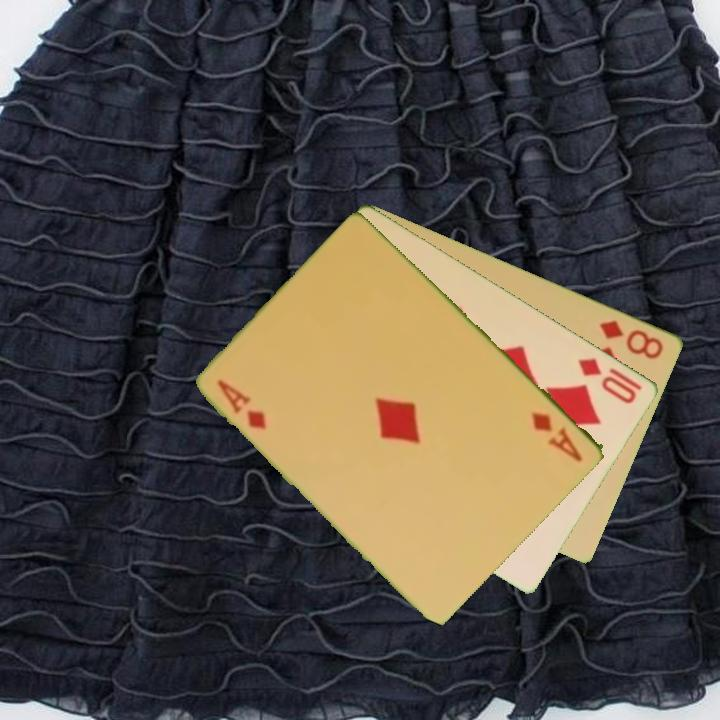10d: (574, 354, 640, 407)
8d: (596, 316, 667, 362)
Ad: (528, 408, 586, 465), (214, 375, 270, 433)
